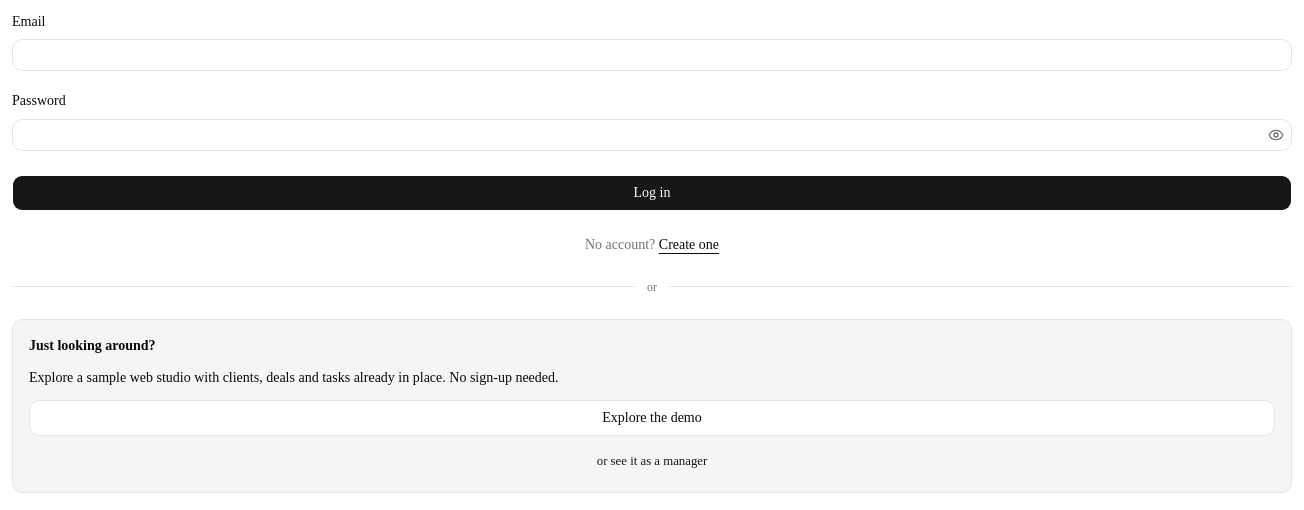
LoginView › should disable all three buttons and spin only the pressed one when a demo entry is pending
Click the button "or see it as a manager": [652, 462] box [586, 448, 718, 476]
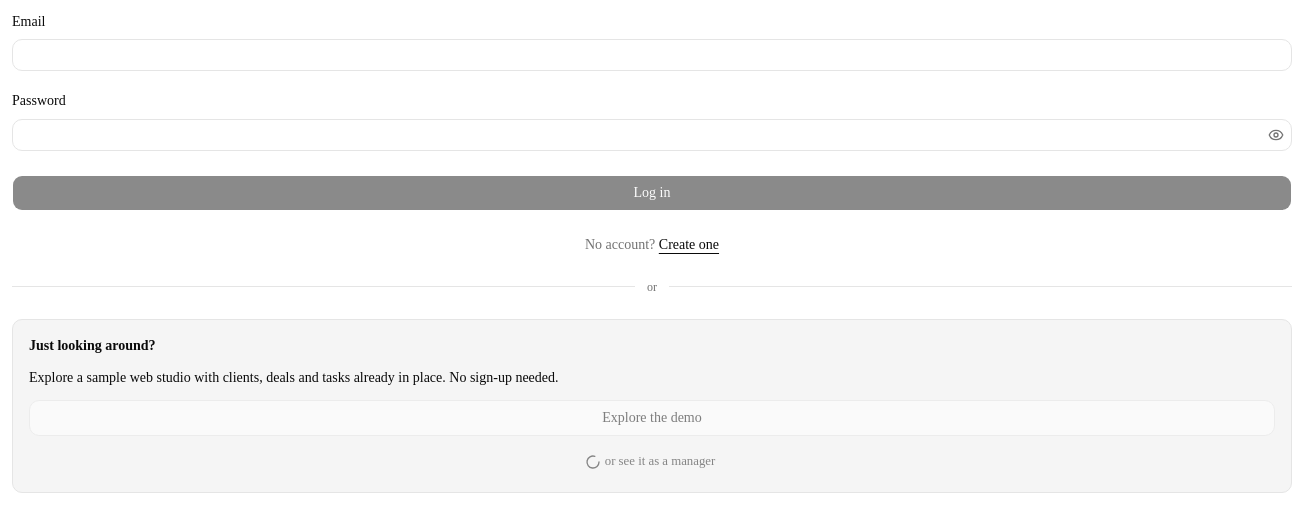
Expected: the button "or see it as a manager" is disabled, [578, 448, 726, 476]
Expected: the button "Log in" is disabled, [12, 174, 1292, 210]
Expected: the message named "Loading" is shown, [585, 454, 601, 470]
